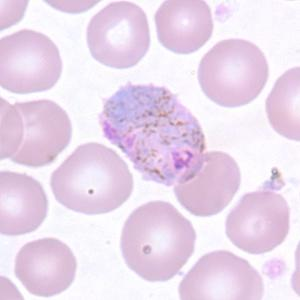Infected: (98, 81, 208, 188)
Uninfected: (51, 142, 131, 215), (120, 201, 193, 280), (197, 37, 270, 108), (1, 96, 69, 166), (86, 1, 150, 68), (173, 150, 240, 213), (225, 191, 289, 254), (0, 28, 61, 94), (180, 251, 260, 298), (14, 237, 75, 295), (154, 0, 212, 53), (0, 172, 47, 235)
